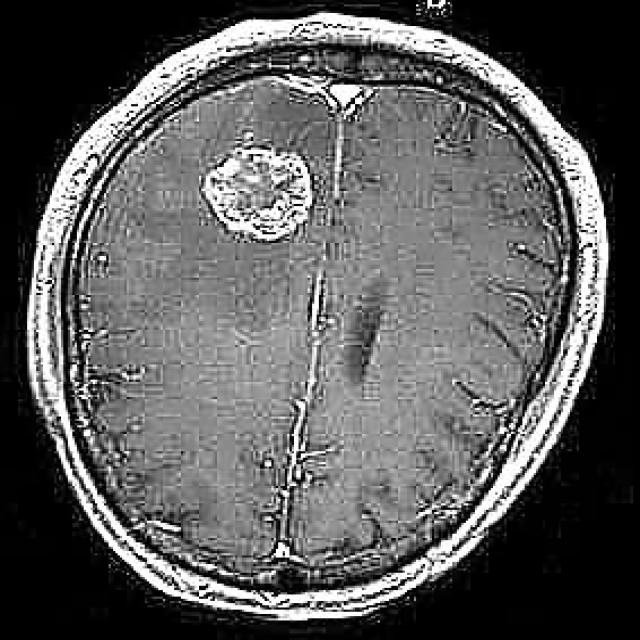Tumor-Cell: (176, 128, 330, 235)
